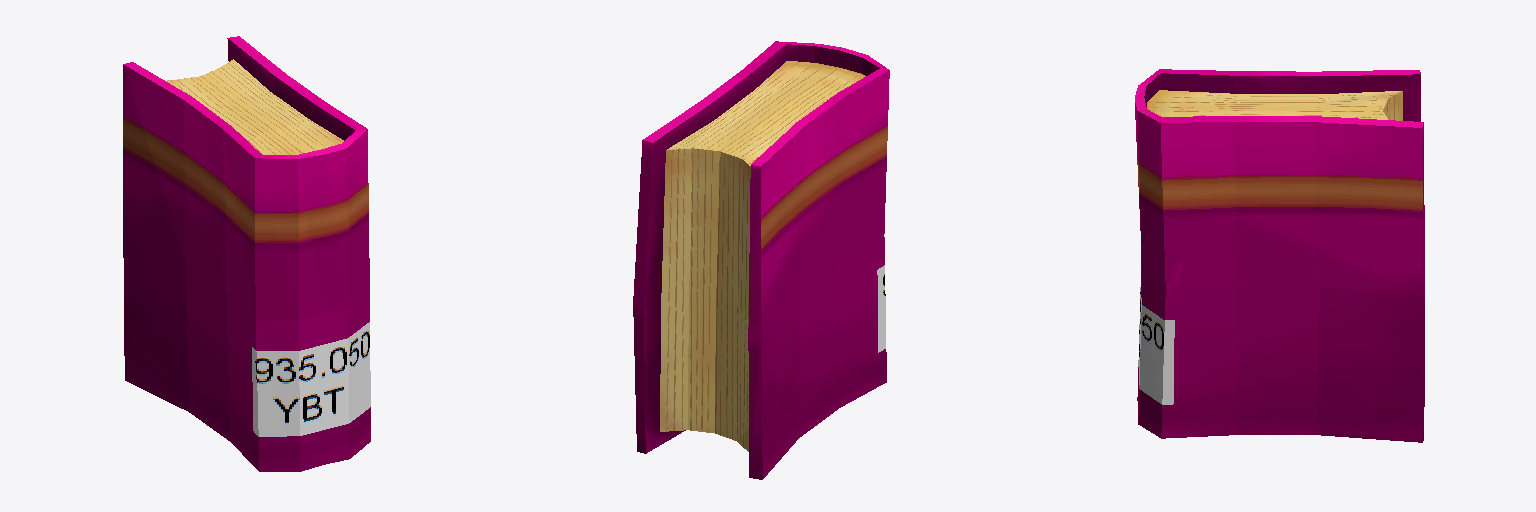
The picture shows the model from 3 angles: view 1: azimuth 30°, elevation 25°; view 2: azimuth 150°, elevation 25°; view 3: azimuth 270°, elevation 25°; orthographic projection.
Visible parts, largest first — view 1: Cover.001, Pages.002; view 2: Cover.001, Pages.002; view 3: Cover.001, Pages.002.
Part boxes in pixels (bbox=[...]): Cover.001: bbox=[123, 36, 370, 471]; Pages.002: bbox=[166, 59, 343, 154]; Cover.001: bbox=[633, 41, 889, 479]; Pages.002: bbox=[660, 61, 865, 451]; Cover.001: bbox=[1135, 69, 1424, 442]; Pages.002: bbox=[1147, 90, 1402, 120].
Size of the model in its own units: 2.93 by 7.05 by 5.85.
2 materials, 2 textured.